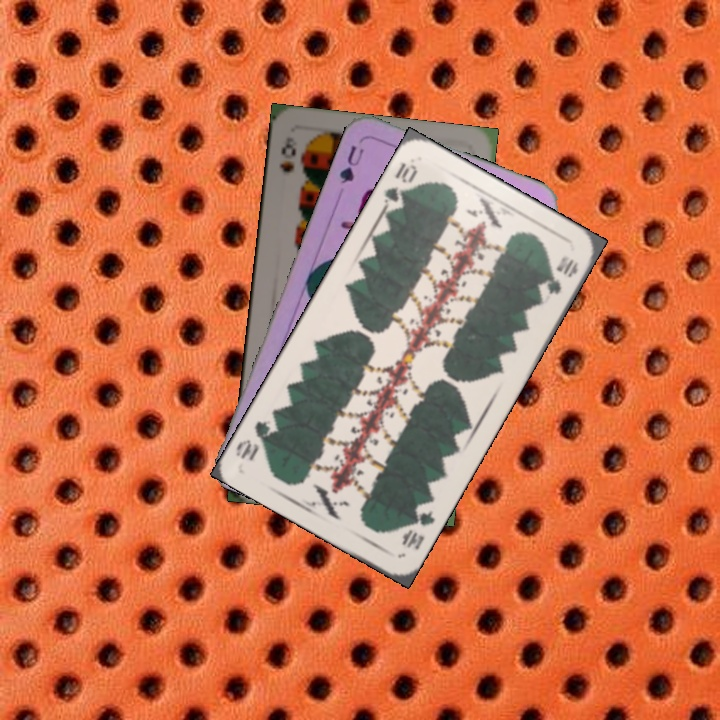G10: (379, 158, 420, 214), (397, 506, 438, 552)
GU: (335, 141, 367, 187)
S8: (275, 139, 299, 175)
